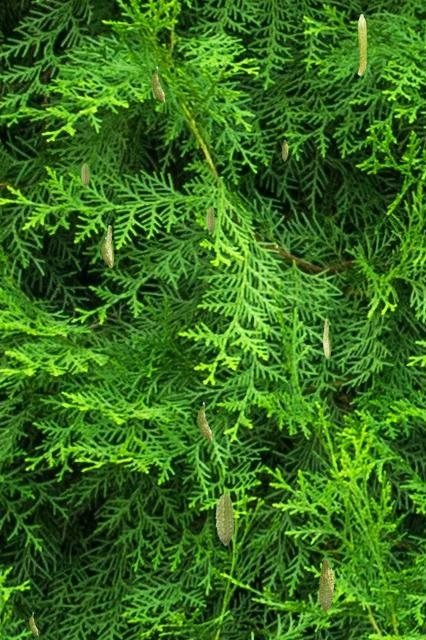ampalaya: (215, 492, 234, 546), (317, 557, 335, 612), (196, 402, 213, 441), (357, 13, 367, 76), (150, 66, 165, 103), (322, 318, 331, 359), (100, 237, 112, 266), (106, 224, 114, 267), (205, 206, 215, 233), (28, 612, 38, 636), (80, 163, 89, 187), (281, 139, 288, 161)
